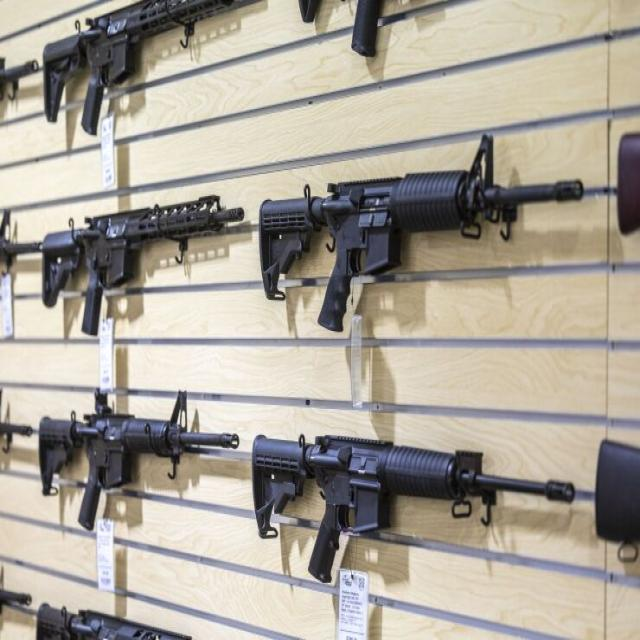Rifle: (258, 136, 586, 335), (251, 436, 578, 585), (40, 0, 262, 135), (41, 196, 245, 339), (38, 393, 240, 534)
